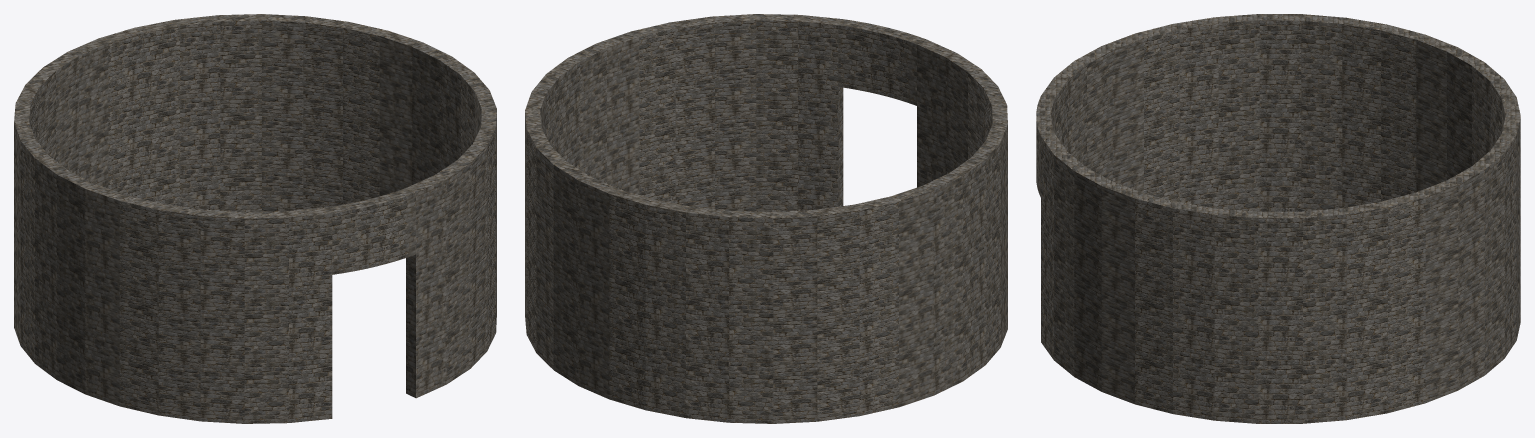
Rendered from Tower_Section_6m.glb.
3 views of the same model, side by side, from view 1: azimuth 30°, elevation 25°; view 2: azimuth 150°, elevation 25°; view 3: azimuth 270°, elevation 25° (orthographic).
Parts seen in each view (by area): view 1: tower_wall, tower_lintel; view 2: tower_wall, tower_lintel; view 3: tower_wall, tower_lintel.
Boxes of the visible parts, x1,y1,x2,y2 form: tower_wall: [14, 14, 496, 423]; tower_lintel: [327, 188, 415, 274]; tower_wall: [525, 14, 1007, 423]; tower_lintel: [838, 19, 926, 105]; tower_wall: [1041, 14, 1520, 423]; tower_lintel: [1036, 95, 1055, 197].
Size of the model in its own units: 6.38 by 3 by 6.4.
Materials: 1 (1 with a texture image).
